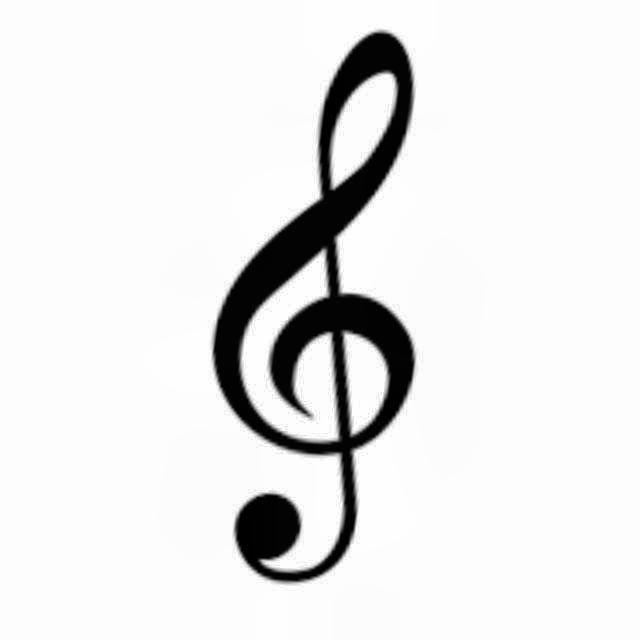Treble-clef: (194, 25, 468, 603)
